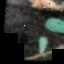Purslane: (0, 0, 64, 64)
